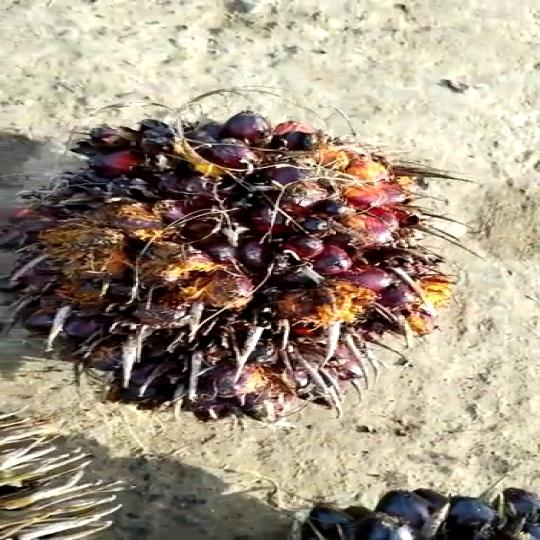masak: (10, 100, 459, 422)
